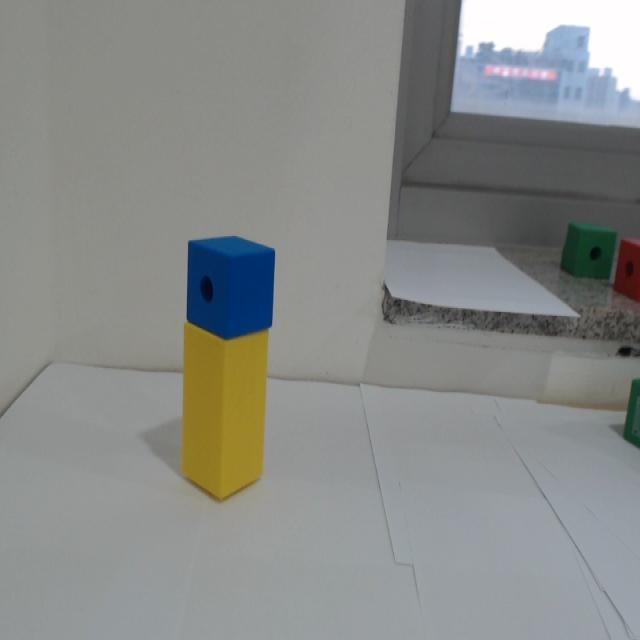cube: (183, 231, 277, 344)
